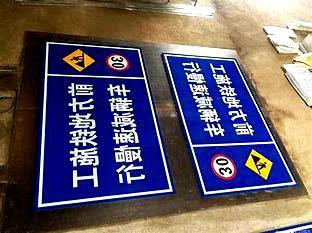sign: (34, 30, 170, 213), (162, 41, 300, 203)
